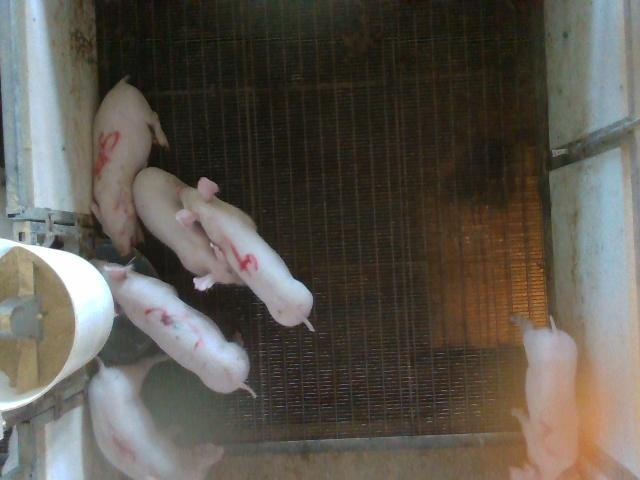pig-1: (89, 369, 186, 479)
pig-2: (511, 315, 578, 479)
pig-3: (92, 261, 255, 394)
pig-4: (176, 178, 314, 329)
pig-5: (91, 76, 169, 256)
